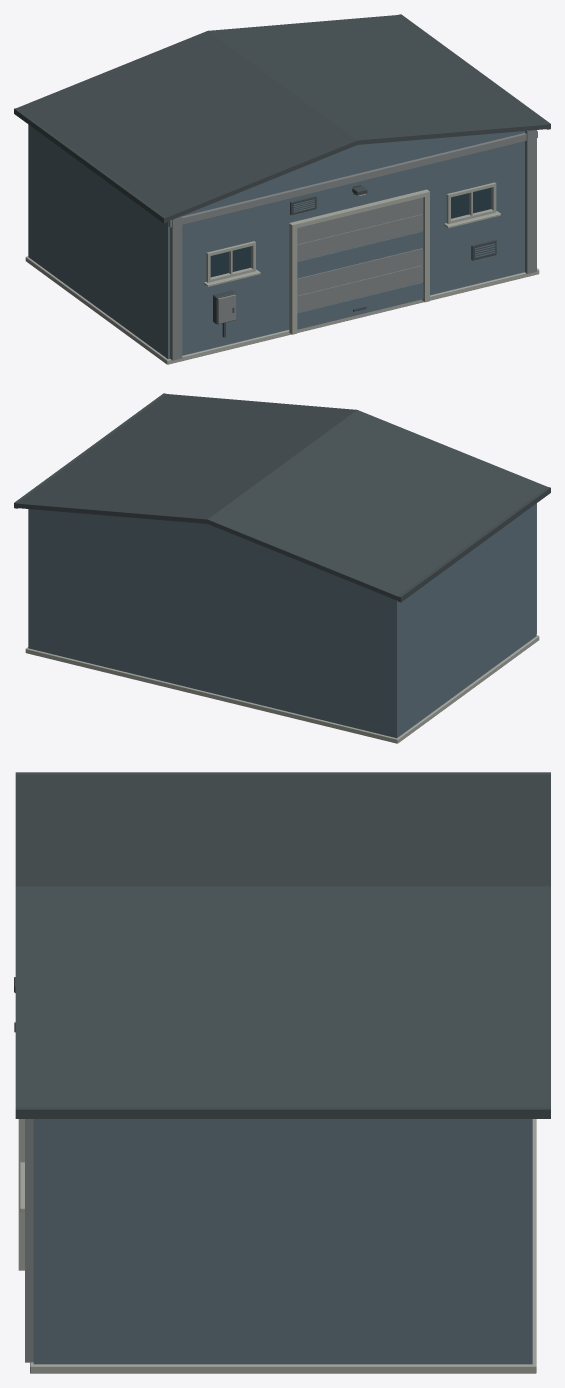
The model's file is Waterworks_MainPumpBuilding.fbx.
3 renders of one model, top to bottom at view 1: azimuth 30°, elevation 25°; view 2: azimuth 150°, elevation 25°; view 3: azimuth 270°, elevation 25°, orthographic. The views are drawn at different scales.
Parts seen in each view (by area): view 1: Waterworks_MainPumpBuilding_Roof, Waterworks_MainPumpBuilding_Shell, Waterworks_PumpServiceDoor, Waterworks_PumpPilasters, Waterworks_MainPumpBuilding_Foundation, Waterworks_PumpEast_Window, Waterworks_PumpWest_Window, Waterworks_PumpElectricalCabinet; view 2: Waterworks_MainPumpBuilding_Shell, Waterworks_MainPumpBuilding_Roof, Waterworks_MainPumpBuilding_Foundation; view 3: Waterworks_MainPumpBuilding_Roof, Waterworks_MainPumpBuilding_Shell, Waterworks_MainPumpBuilding_Foundation, Waterworks_PumpPilasters, Waterworks_PumpServiceDoor.
Part boxes in pixels (<box>): Waterworks_MainPumpBuilding_Roof: <box>14,14,550,223</box>; Waterworks_MainPumpBuilding_Shell: <box>28,124,524,359</box>; Waterworks_PumpServiceDoor: <box>289,189,429,334</box>; Waterworks_PumpPilasters: <box>168,130,537,360</box>; Waterworks_MainPumpBuilding_Foundation: <box>25,256,539,364</box>; Waterworks_PumpEast_Window: <box>444,182,500,228</box>; Waterworks_PumpWest_Window: <box>204,241,260,286</box>; Waterworks_PumpElectricalCabinet: <box>213,290,236,337</box>; Waterworks_MainPumpBuilding_Shell: <box>28,503,536,738</box>; Waterworks_MainPumpBuilding_Roof: <box>14,393,550,602</box>; Waterworks_MainPumpBuilding_Foundation: <box>25,635,539,743</box>; Waterworks_MainPumpBuilding_Roof: <box>15,772,550,1118</box>; Waterworks_MainPumpBuilding_Shell: <box>33,1119,532,1364</box>; Waterworks_MainPumpBuilding_Foundation: <box>30,1119,536,1373</box>; Waterworks_PumpPilasters: <box>25,1119,33,1362</box>; Waterworks_PumpServiceDoor: <box>18,1119,24,1270</box>.
Size of the model in its own units: 10.08 by 4.53 by 6.78.
